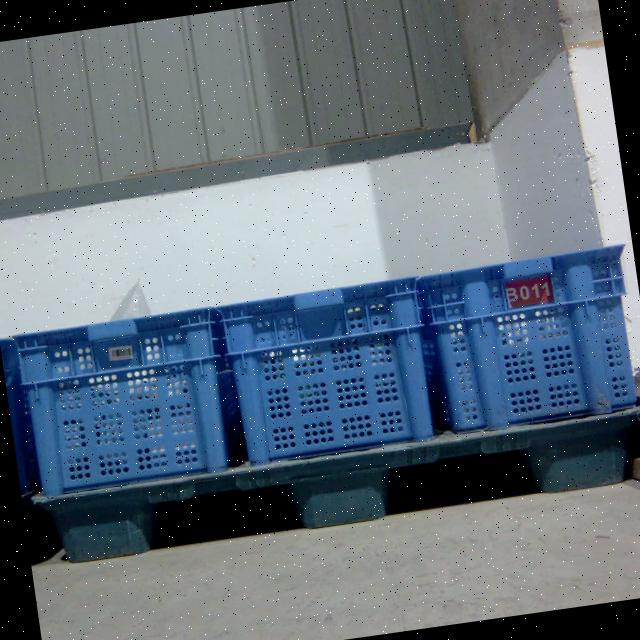block: (35, 485, 147, 565), (274, 454, 388, 525), (524, 415, 627, 490)
front: (36, 408, 634, 560)
hole pallet: (386, 447, 541, 515), (146, 487, 306, 550)
